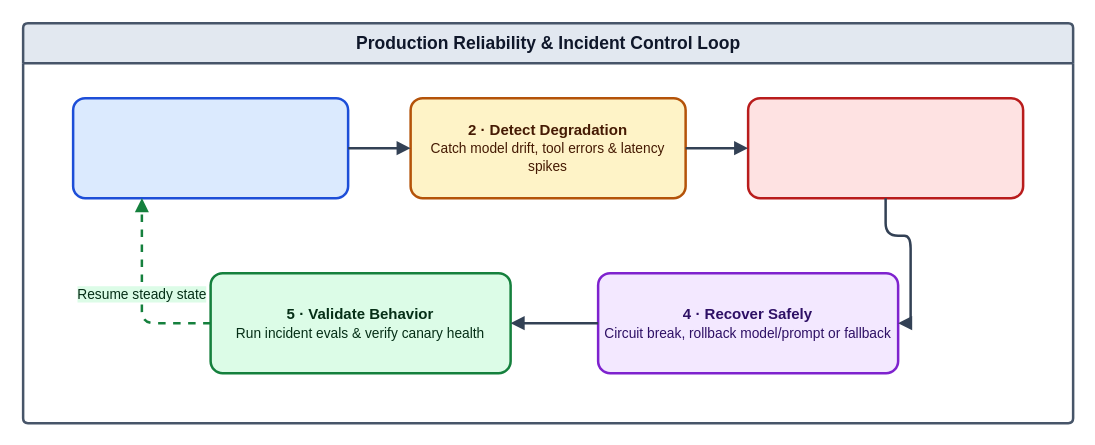
This 1095x445 diagram has some shape labels left out. Each missing label, with the box of its shape:
1 · Monitor Traces, logs, SLOs & policy telemetry: (71, 96, 349, 199)
3 · Triaged Response Assign owner, bound blast radius & gate risk: (746, 96, 1024, 199)
